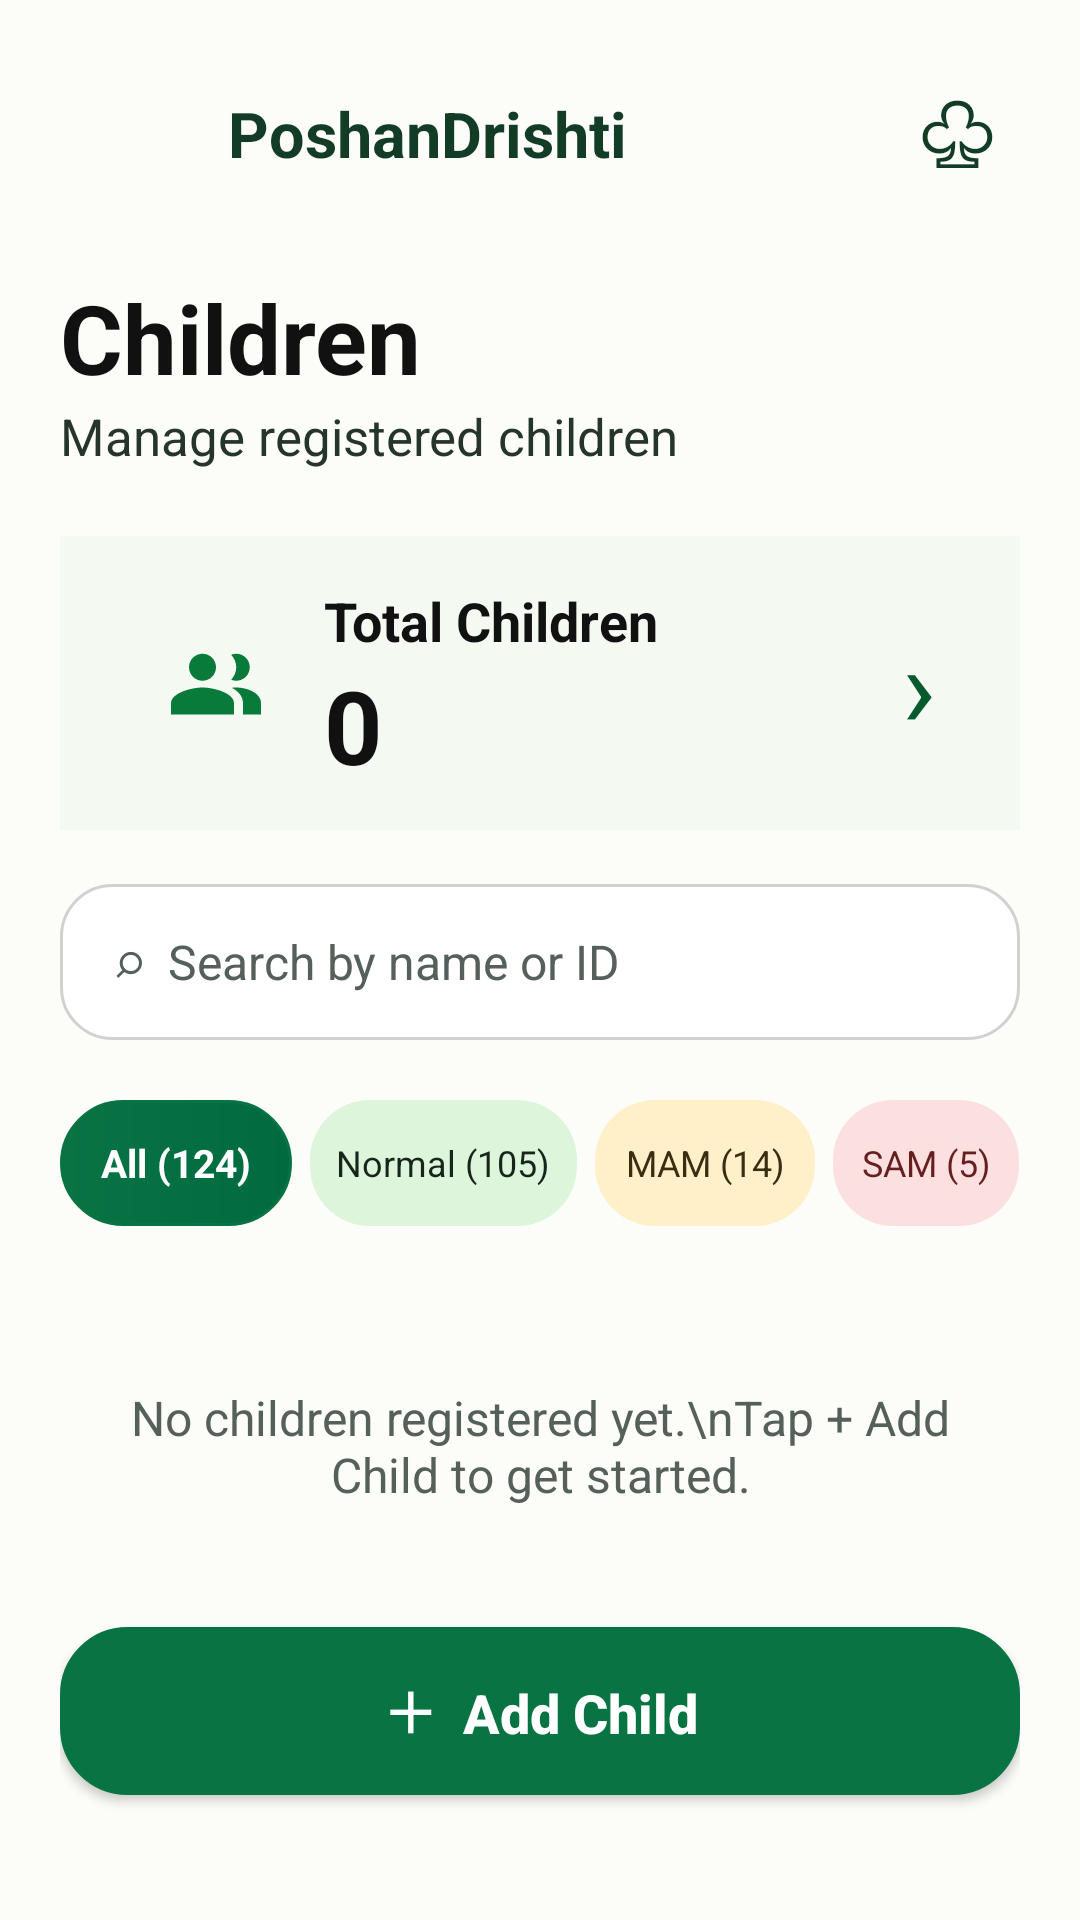

Screen size 1080 × 1920. Icon name, then its center in pixels as (x=x, y=y):
Children group: (x=216, y=684)
